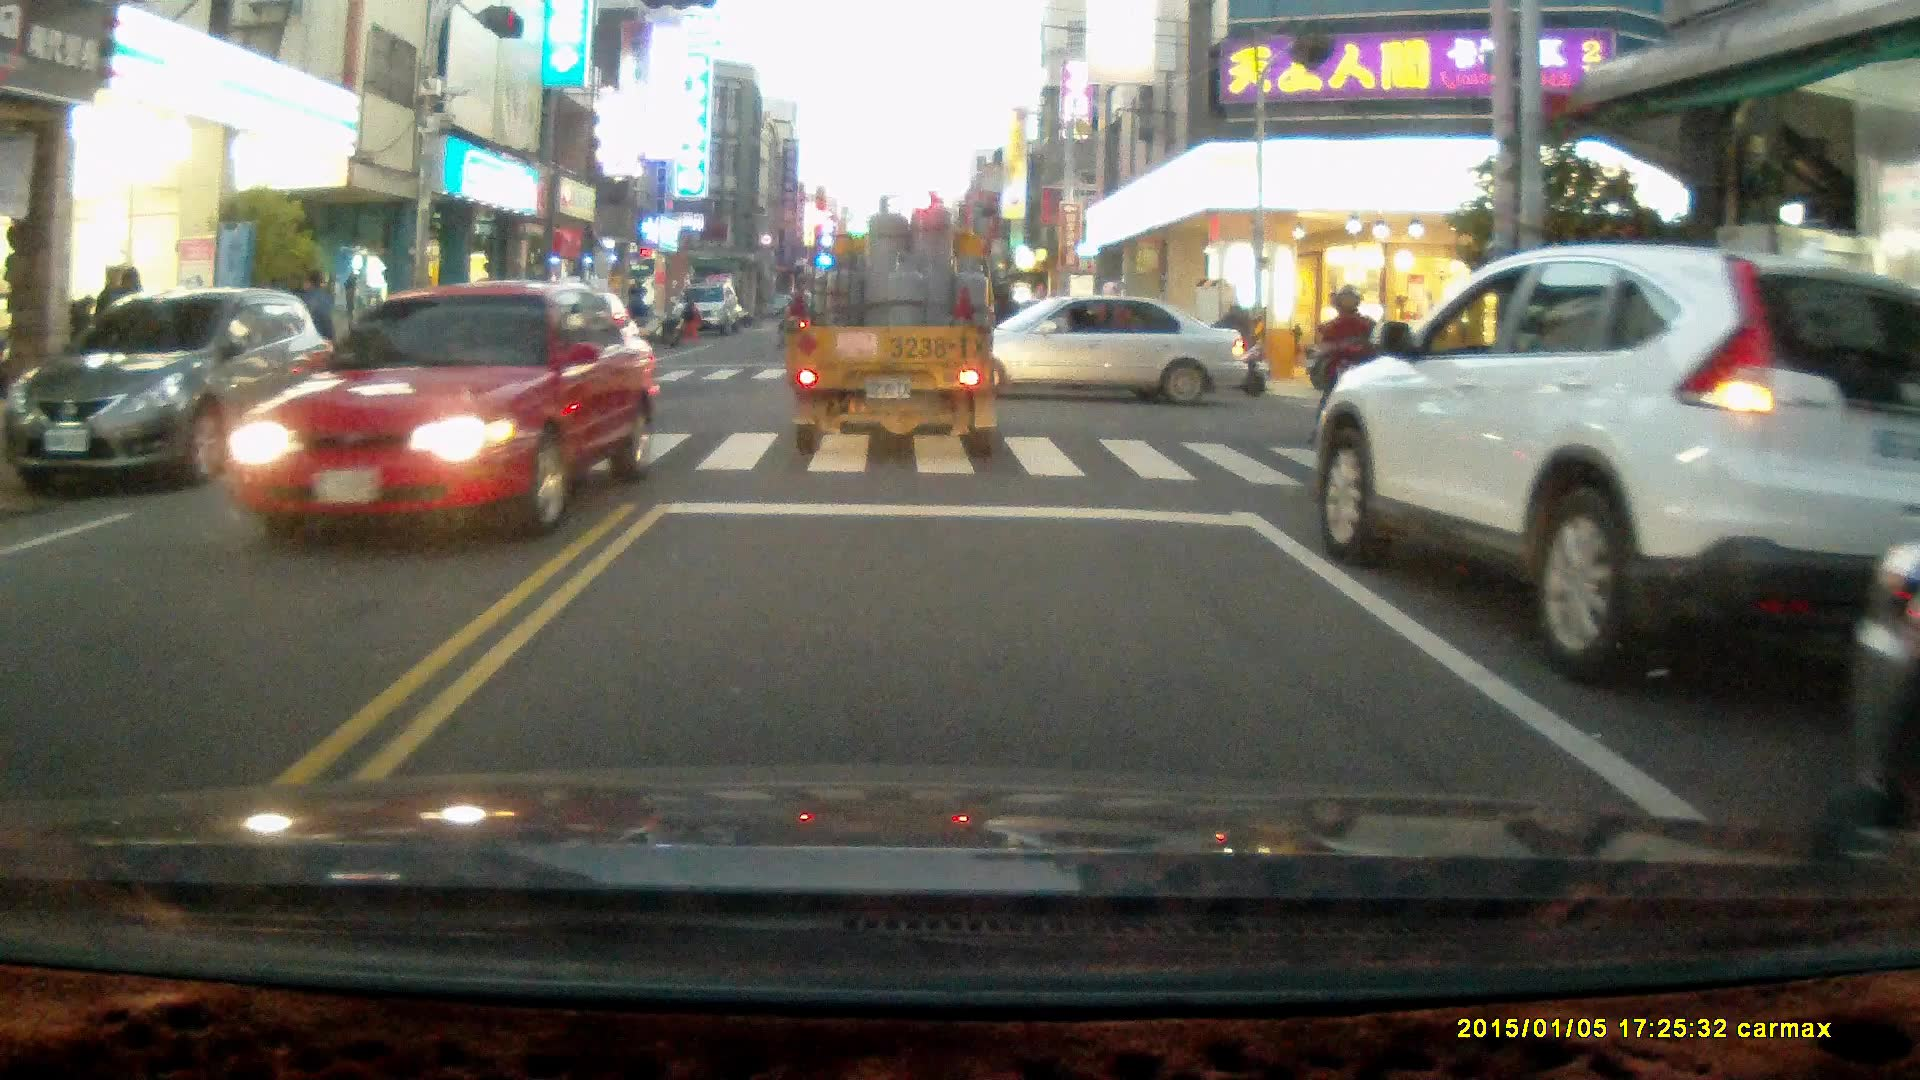rider: (1305, 279, 1394, 463), (1177, 290, 1269, 396)
vehicle: (1310, 242, 1920, 692), (217, 279, 672, 541), (11, 288, 338, 494), (787, 192, 1006, 461), (924, 294, 1249, 410), (674, 284, 741, 336)
